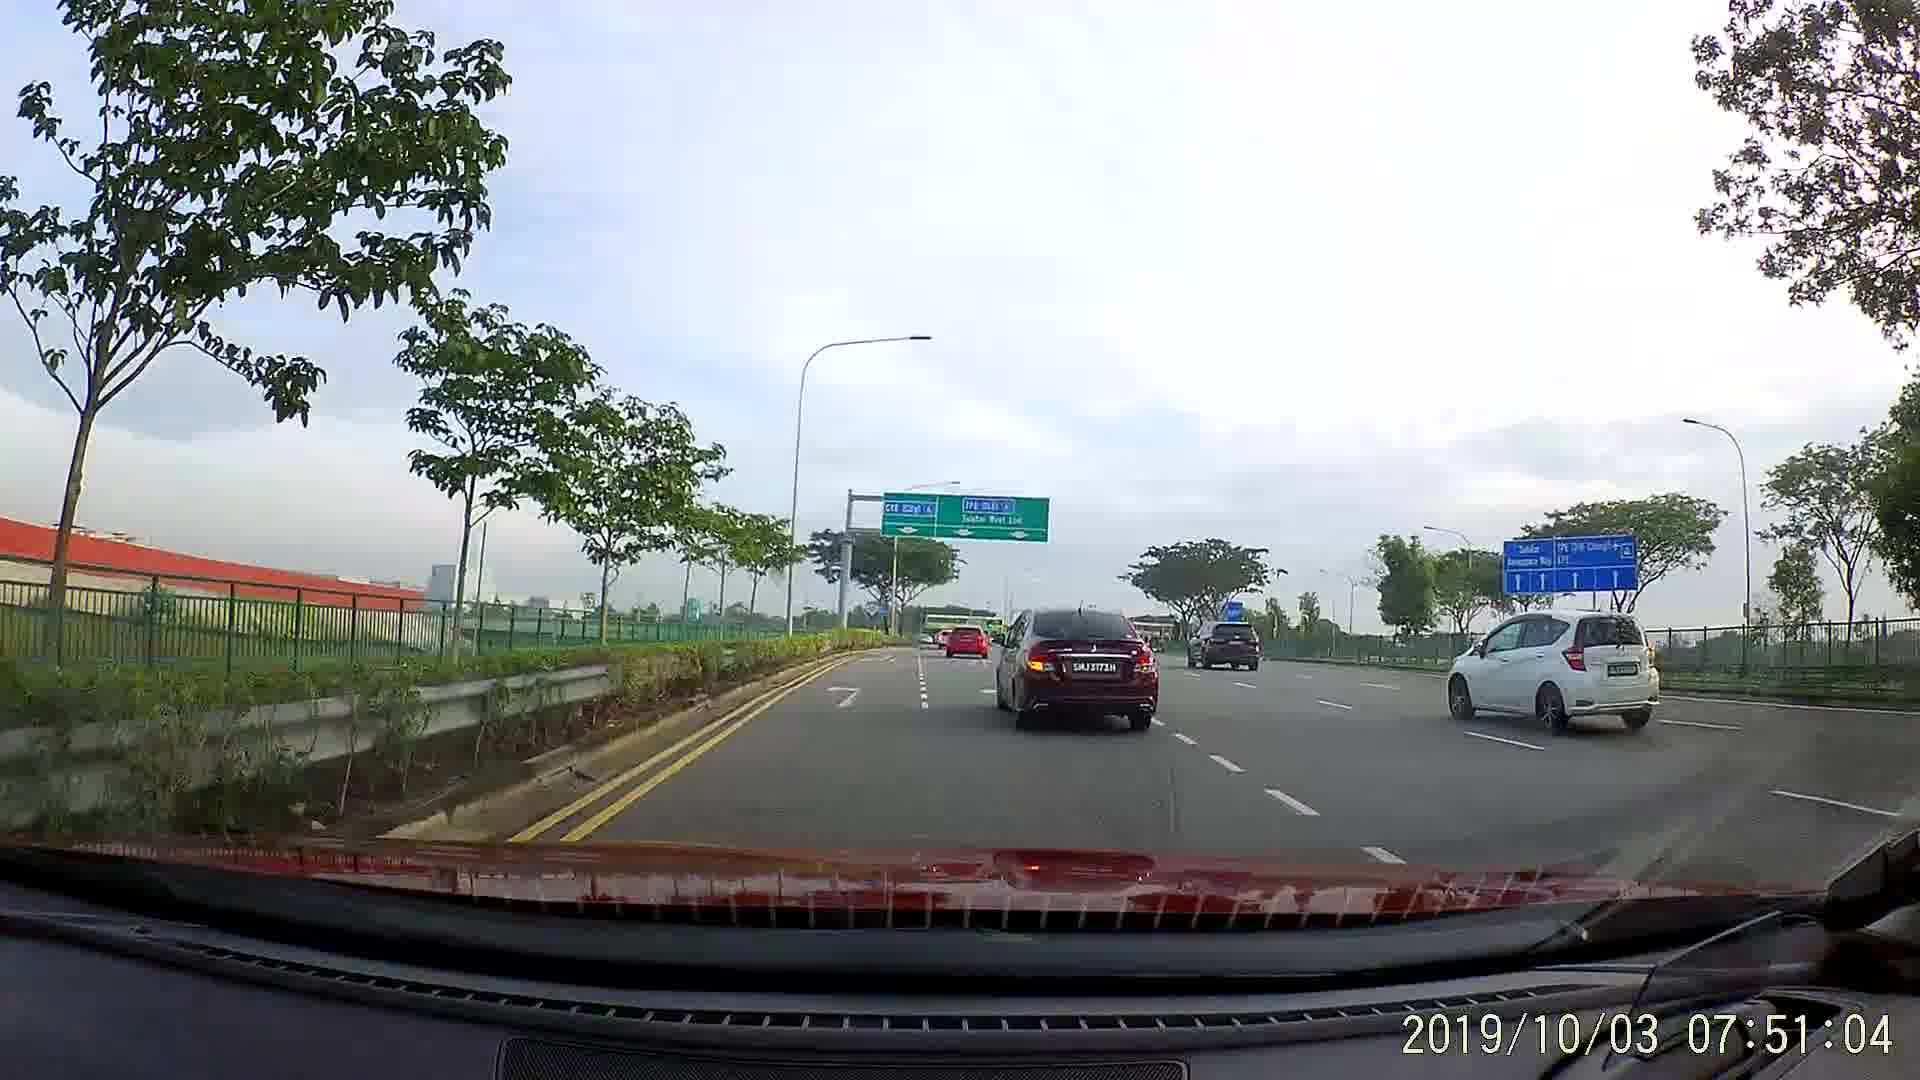car: (1444, 612, 1662, 735), (996, 605, 1160, 735), (1184, 616, 1265, 678), (943, 621, 989, 663)
